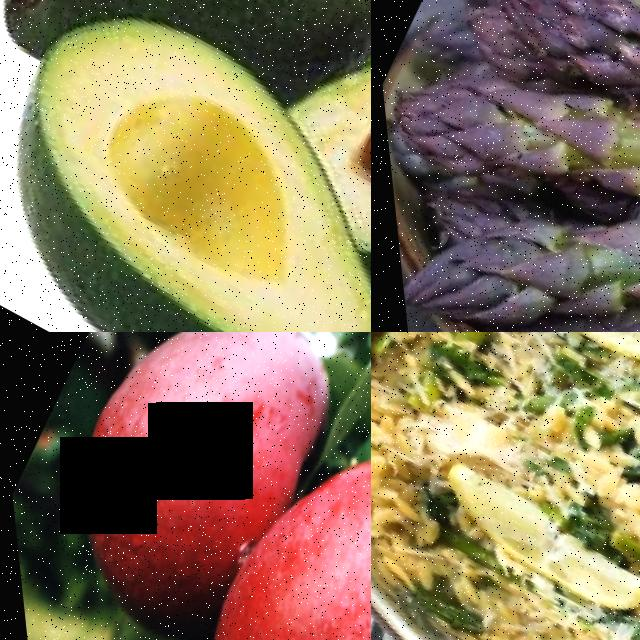apple: (7, 332, 368, 640), (120, 405, 371, 640)
asparagus: (403, 34, 640, 239), (504, 0, 640, 127), (470, 251, 640, 332)
avocado: (0, 0, 371, 332), (192, 0, 371, 332), (10, 0, 371, 92)
